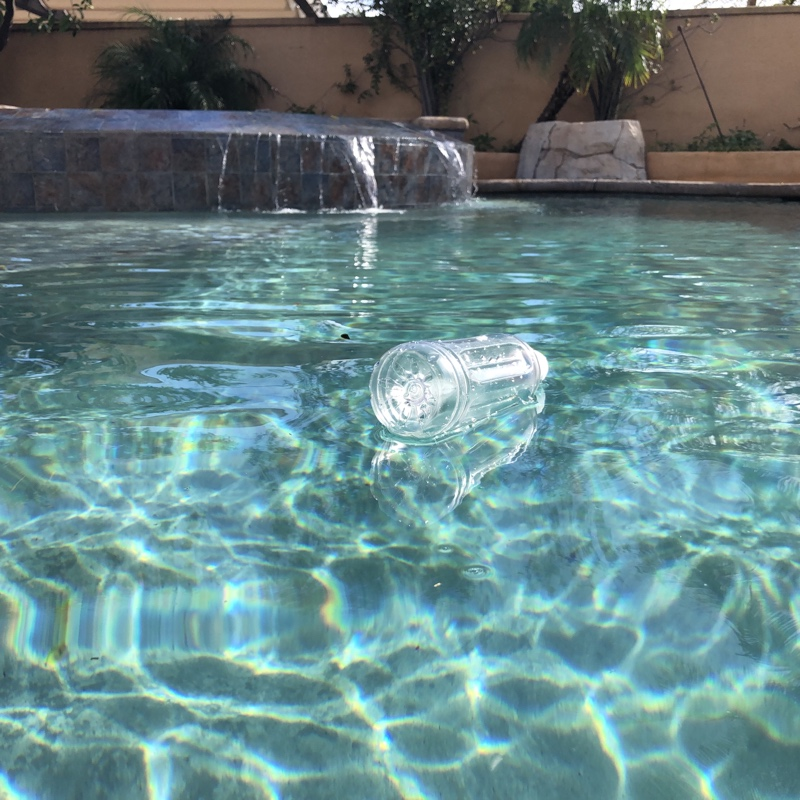Plastic Bottle: (364, 329, 553, 447)
